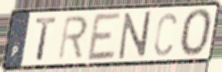C: (152, 11, 178, 58)
E: (85, 10, 124, 63)
N: (117, 9, 152, 62)
O: (179, 7, 215, 59)
R: (57, 14, 90, 62)
T: (34, 16, 59, 63)
